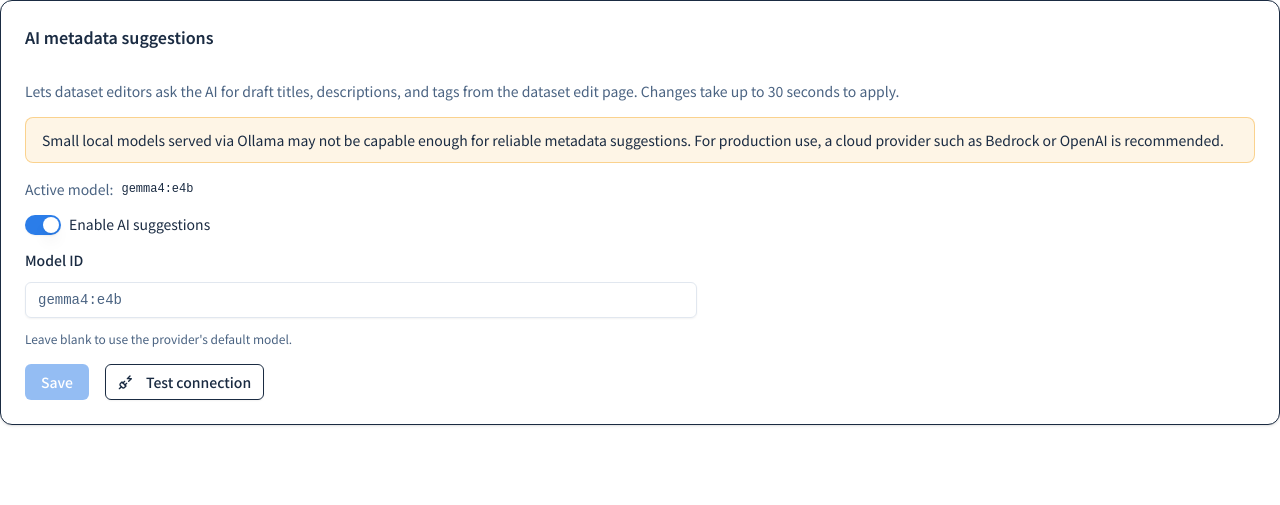
it: AiSuggestCard › announces a successful connection test as a polite status, not an alert
Click the button "Test connection" at (185, 382), box 105,364 -> 264,400
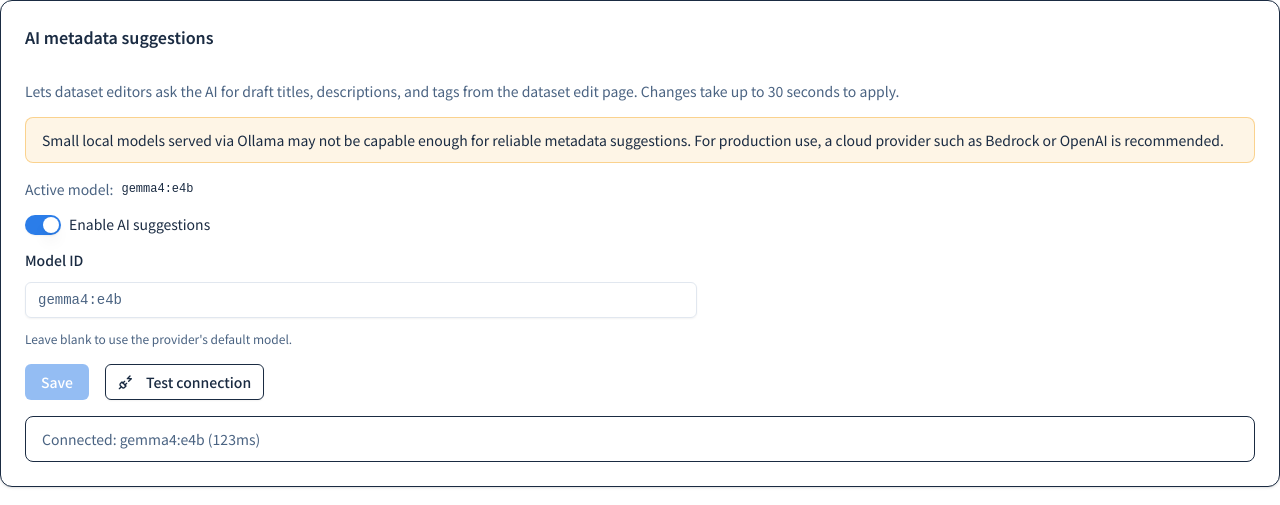
Now the message reads "Connected: gemma4:e4b (123ms)", box 42,429 -> 260,449
